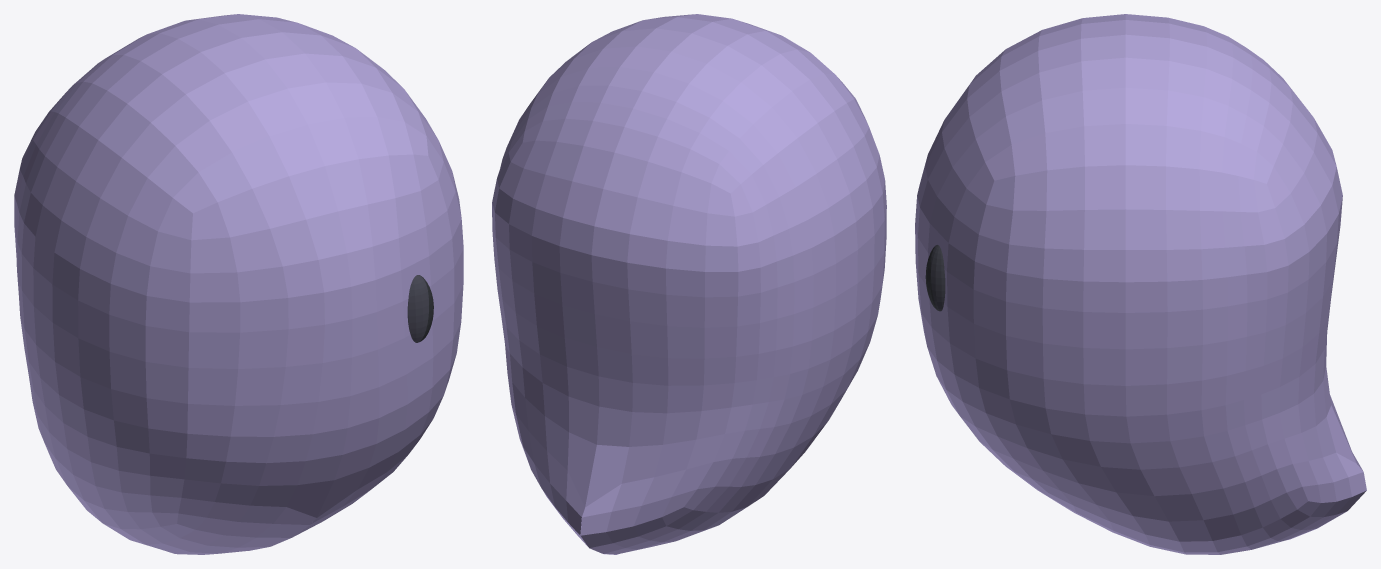
Rendered from user-2.gltf.
3 views of the same model, side by side, from view 1: azimuth 30°, elevation 25°; view 2: azimuth 150°, elevation 25°; view 3: azimuth 270°, elevation 25° (orthographic). The views are drawn at different scales.
Visible parts, largest first — view 1: 立方体, 球体; view 2: 立方体; view 3: 立方体, 球体.
Part boxes in pixels (x1=…): 立方体: x1=14, y1=14, x2=463, y2=554; 球体: x1=407, y1=275, x2=433, y2=342; 立方体: x1=492, y1=14, x2=886, y2=554; 立方体: x1=915, y1=14, x2=1366, y2=554; 球体: x1=925, y1=245, x2=945, y2=311.
Bounding box in the file's own units: 1.6 × 2.18 × 1.75.
